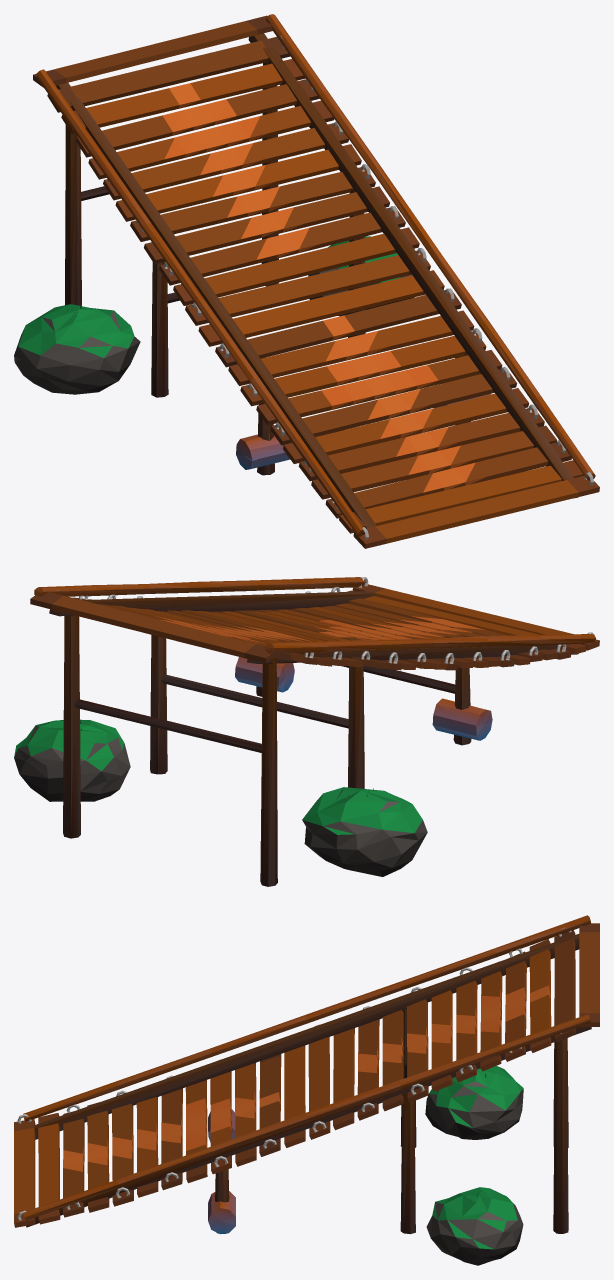
The model's file is riverrush_long_ramp_cedar_414754.glb.
3 views of the same model, one above another, from view 1: azimuth 30°, elevation 25°; view 2: azimuth 150°, elevation 25°; view 3: azimuth 270°, elevation 25° (orthographic). The views are drawn at different scales.
Visible parts, largest first — view 1: Tanjakan_Jumping_Panjang_Tinggi; view 2: Tanjakan_Jumping_Panjang_Tinggi; view 3: Tanjakan_Jumping_Panjang_Tinggi.
Boxes of the visible parts, x1,y1,x2,y2 form: Tanjakan_Jumping_Panjang_Tinggi: (14, 14, 599, 548); Tanjakan_Jumping_Panjang_Tinggi: (14, 577, 599, 886); Tanjakan_Jumping_Panjang_Tinggi: (14, 915, 599, 1265).
Bounding box in the file's own units: 10.11 × 6.42 × 14.6.
